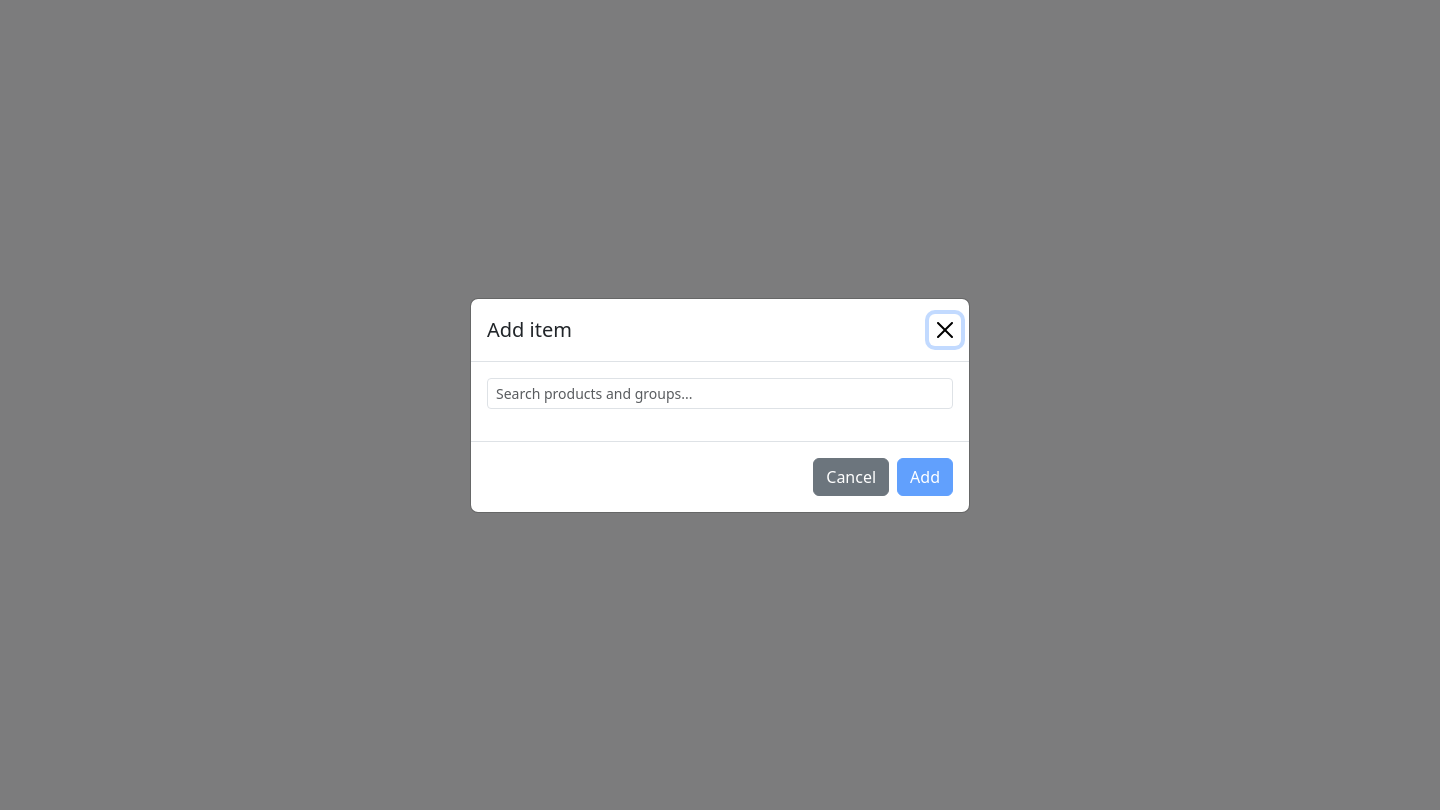
Scenario: ItemModal › add mode › shows selection and config after selecting a product result
Step 1. Type "oats" into the field with placeholder "Search products and groups..." → (720, 393), box [487,378,953,408]
Wait 300 ms
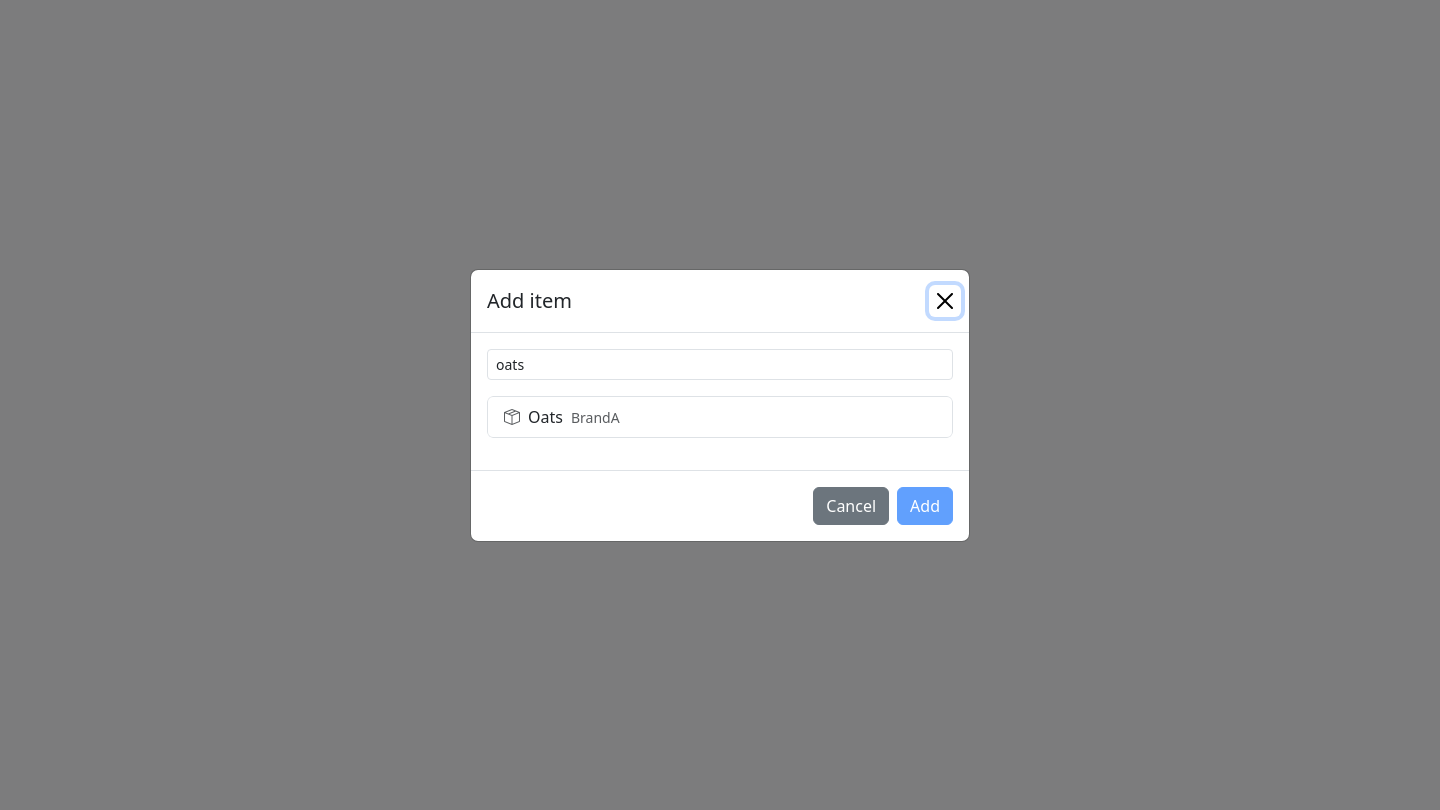
Check: the text "Oats" is shown
Step 2. Click the text "Oats" → (545, 416), box [528,406,563,428]
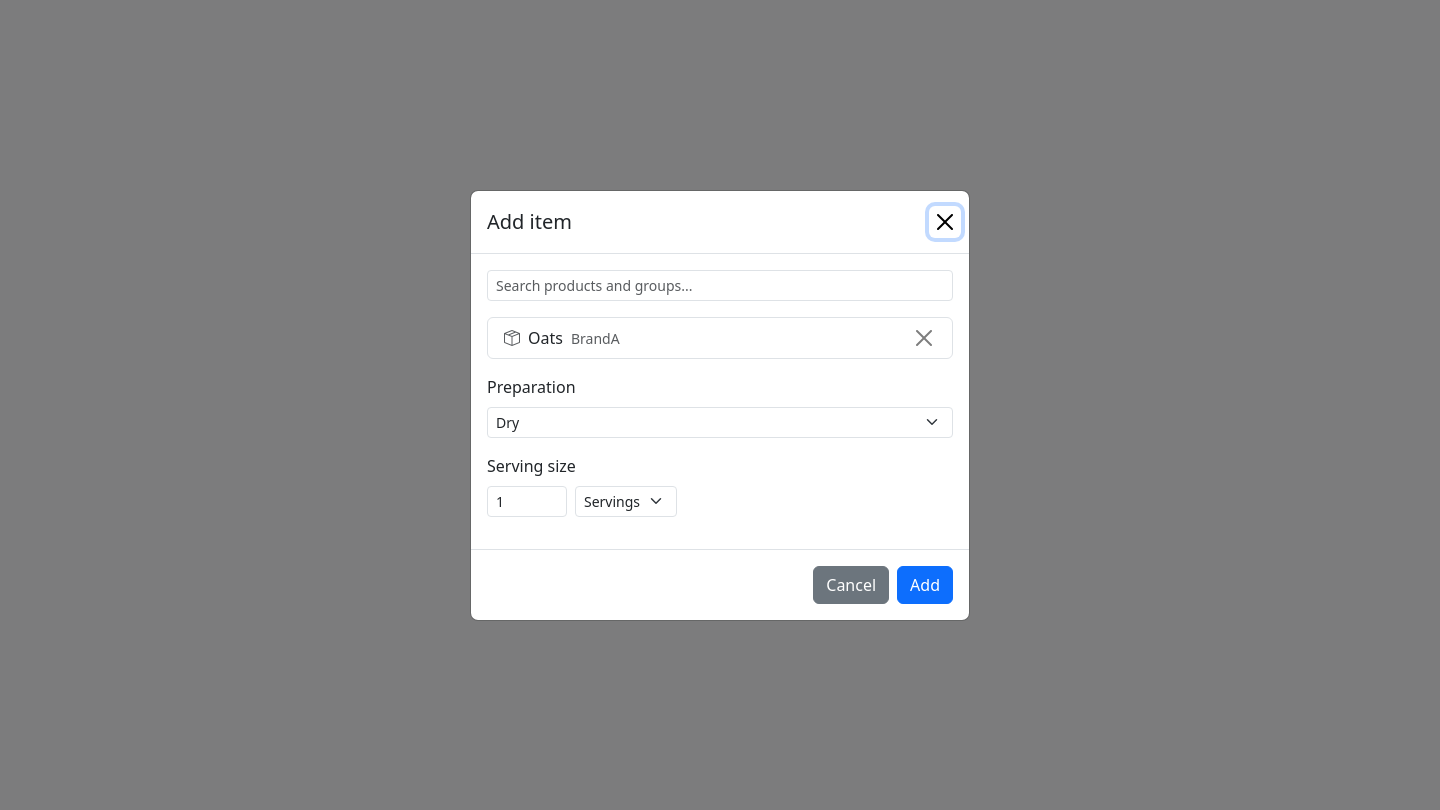
Check: the button named "Clear selection" is shown, box [912,326,936,350]
Check: the text "Serving size" is shown, box [487,454,576,476]
Check: the dropdown labelled "Preparation" is shown, box [487,406,953,438]
